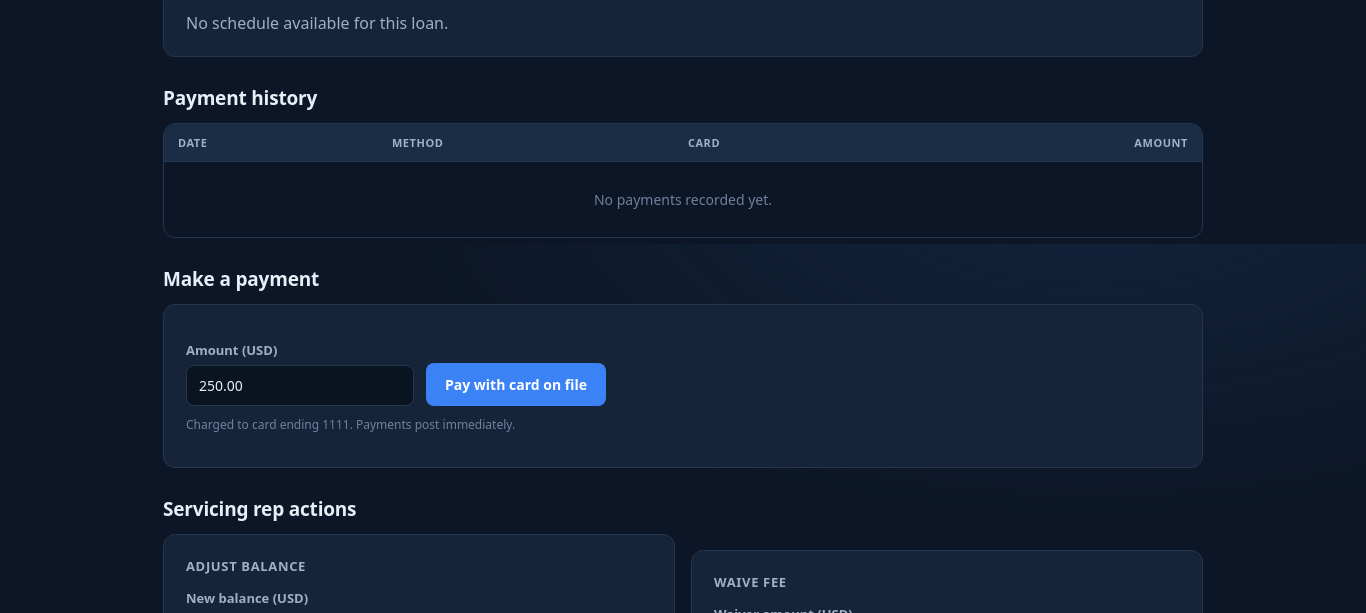
loan detail — payment idempotency (D19) › mints a fresh key only after an explicit new-payment reset
(page scrolled)
Click the button "Pay with card on file". click: (516, 384)
box: left=426, top=362, right=606, bottom=406
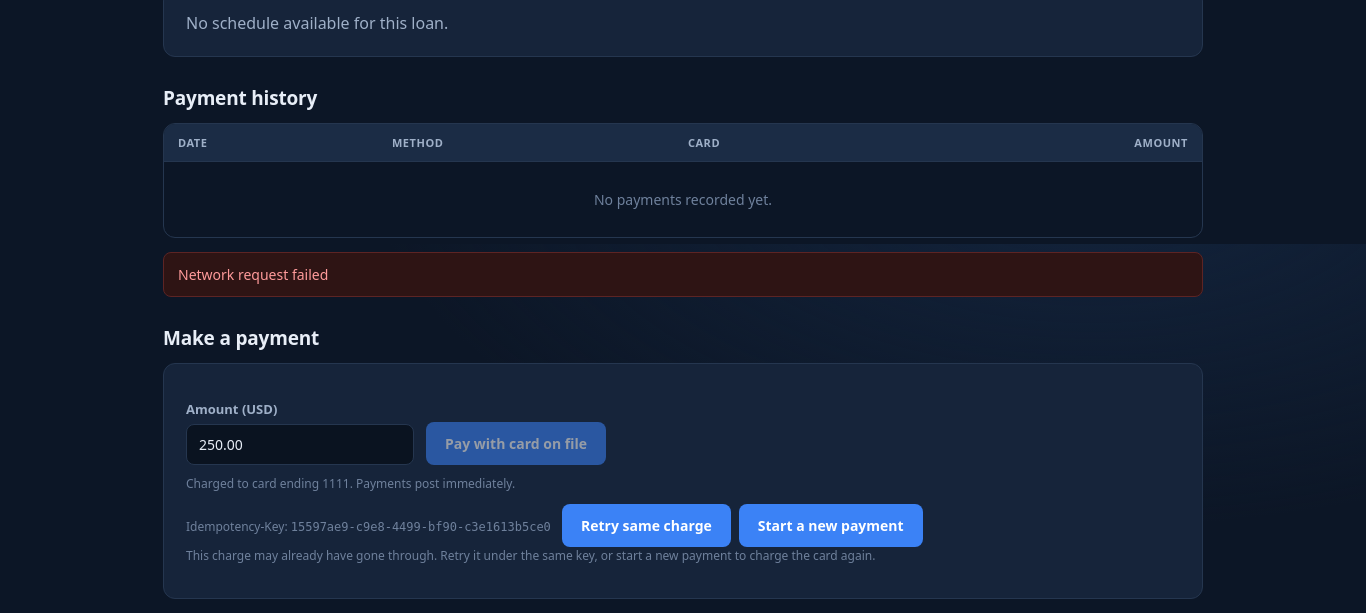
Check: the text "Network request failed" is shown, box left=163, top=252, right=1203, bottom=296
Click the button "Start a new payment". click: (831, 525)
box: left=739, top=504, right=923, bottom=546
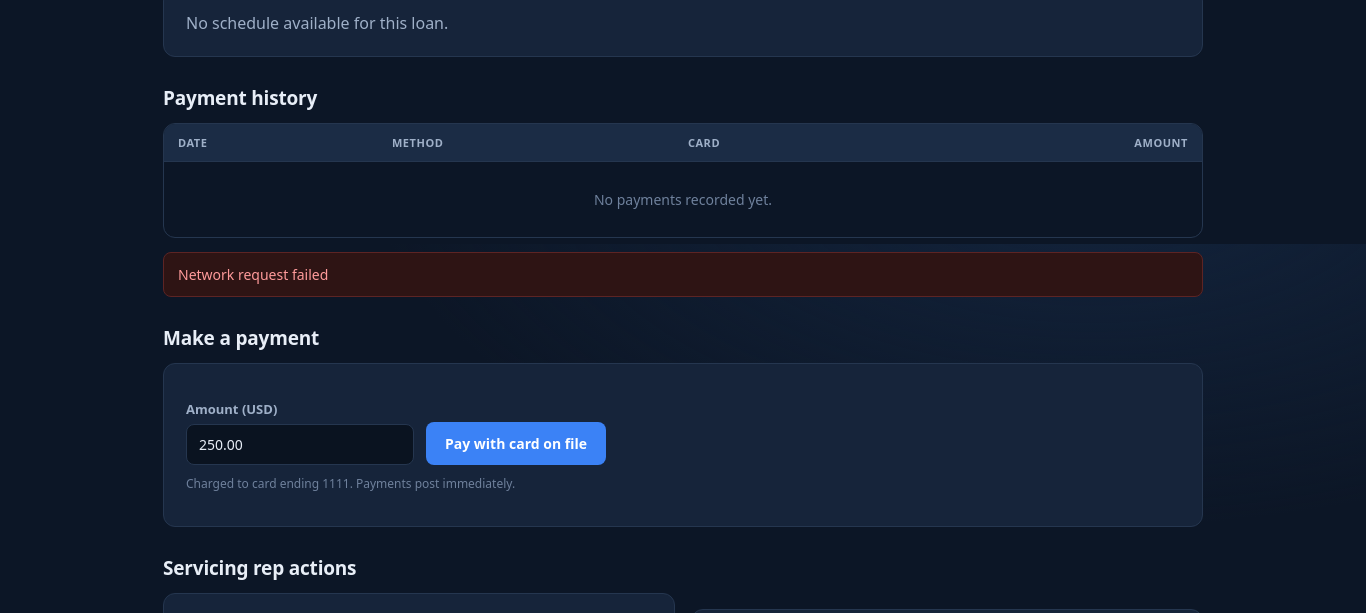
Click the button "Pay with card on file". click: (516, 443)
box: left=426, top=422, right=606, bottom=464
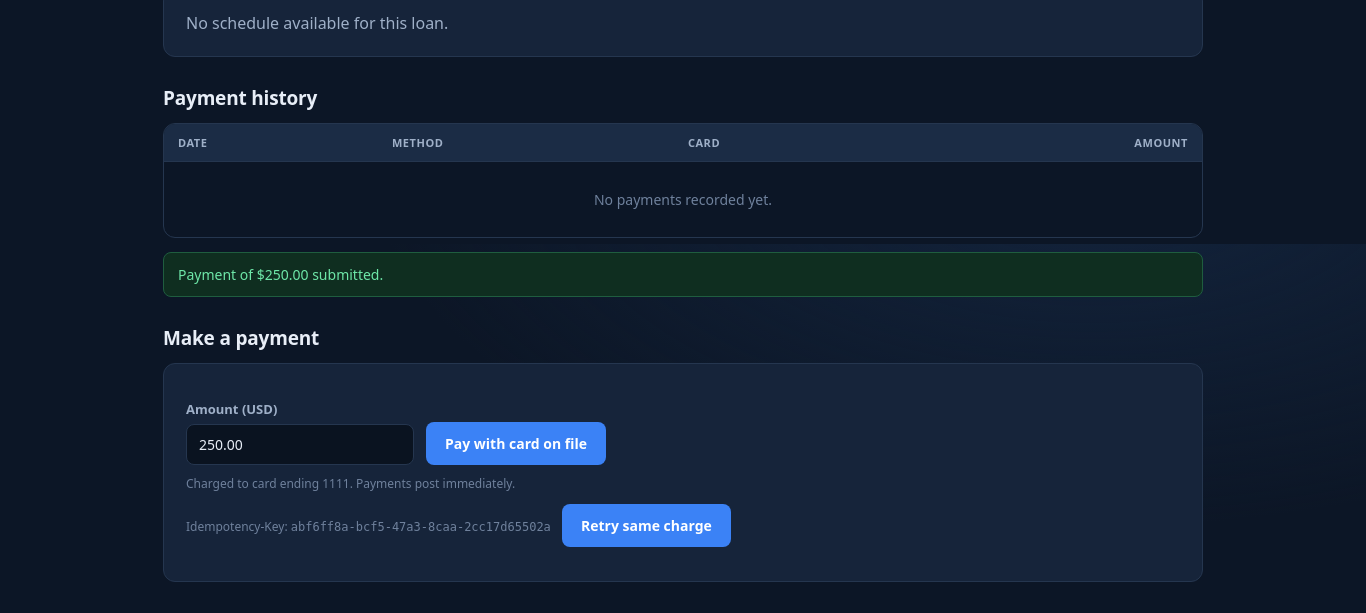
Check: the text "Payment of $250.00 submitted." is shown, box left=163, top=252, right=1203, bottom=296
